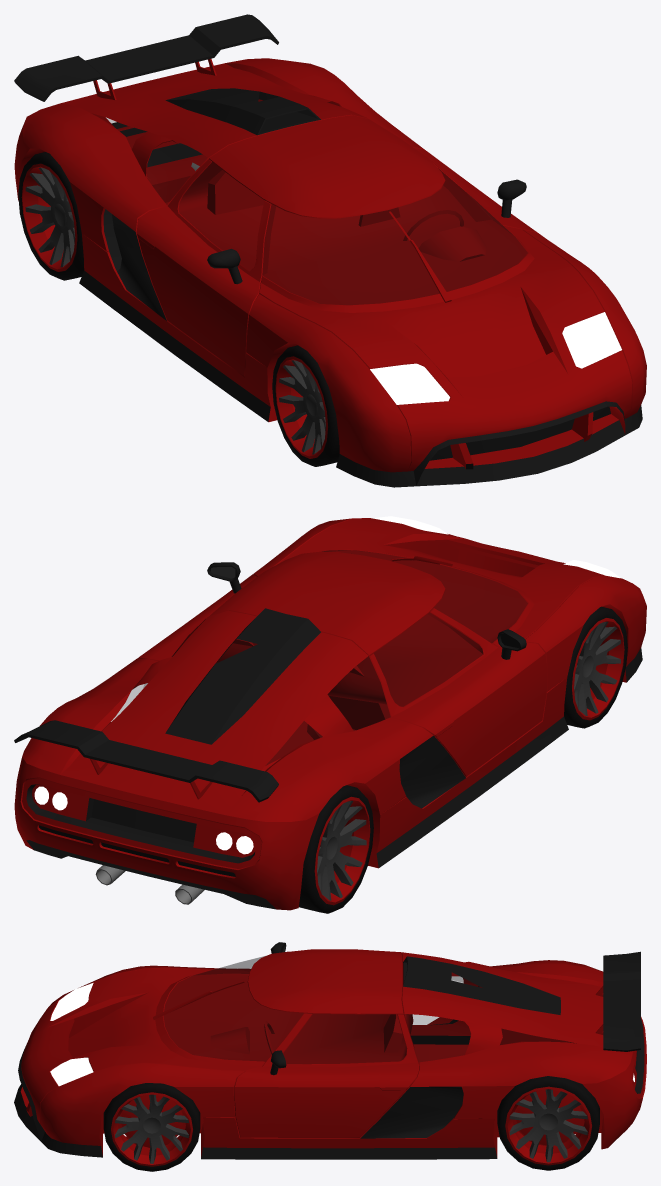
File: sportscar.glb
The picture shows the model from 3 angles, top to bottom: view 1: azimuth 30°, elevation 25°; view 2: azimuth 150°, elevation 25°; view 3: azimuth 270°, elevation 25°; orthographic projection. The views are drawn at different scales.
Visible parts, largest first — view 1: Wheel_H; view 2: Wheel_H; view 3: Wheel_H.
Part boxes in pixels (x1,y1,x2,y2): Wheel_H: (14, 14, 646, 487); Wheel_H: (14, 516, 646, 913); Wheel_H: (14, 942, 646, 1171).
Size of the model in its own units: 1.99 by 1.17 by 4.4.
